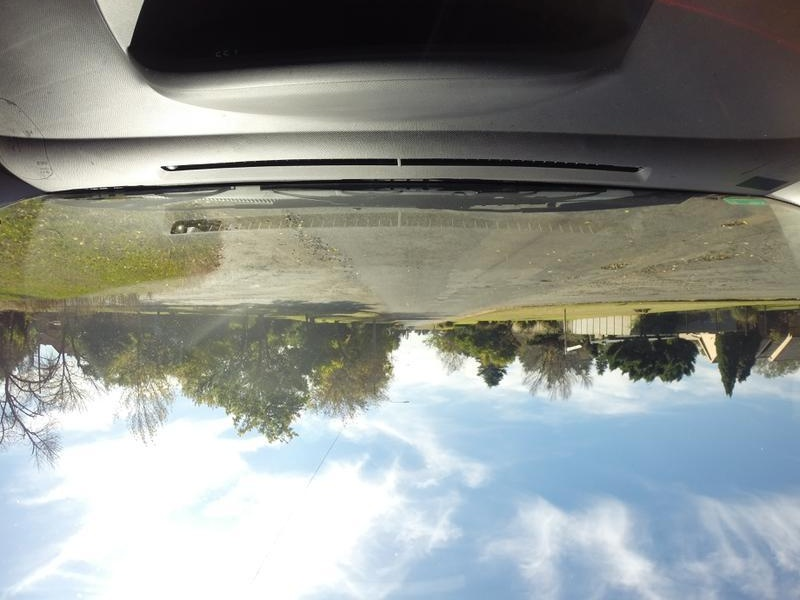pothole: (702, 248, 745, 268), (597, 259, 640, 275), (718, 217, 752, 233)
